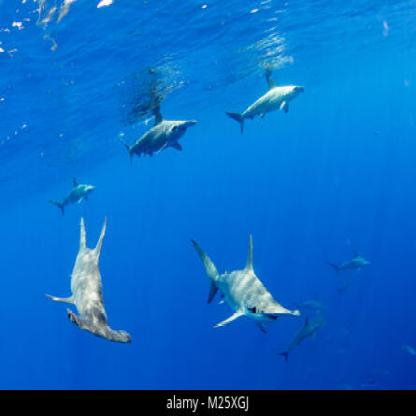hammerhead_Shark: (181, 215, 315, 343), (38, 202, 142, 350)
